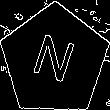N_S: (29, 30, 80, 91)
